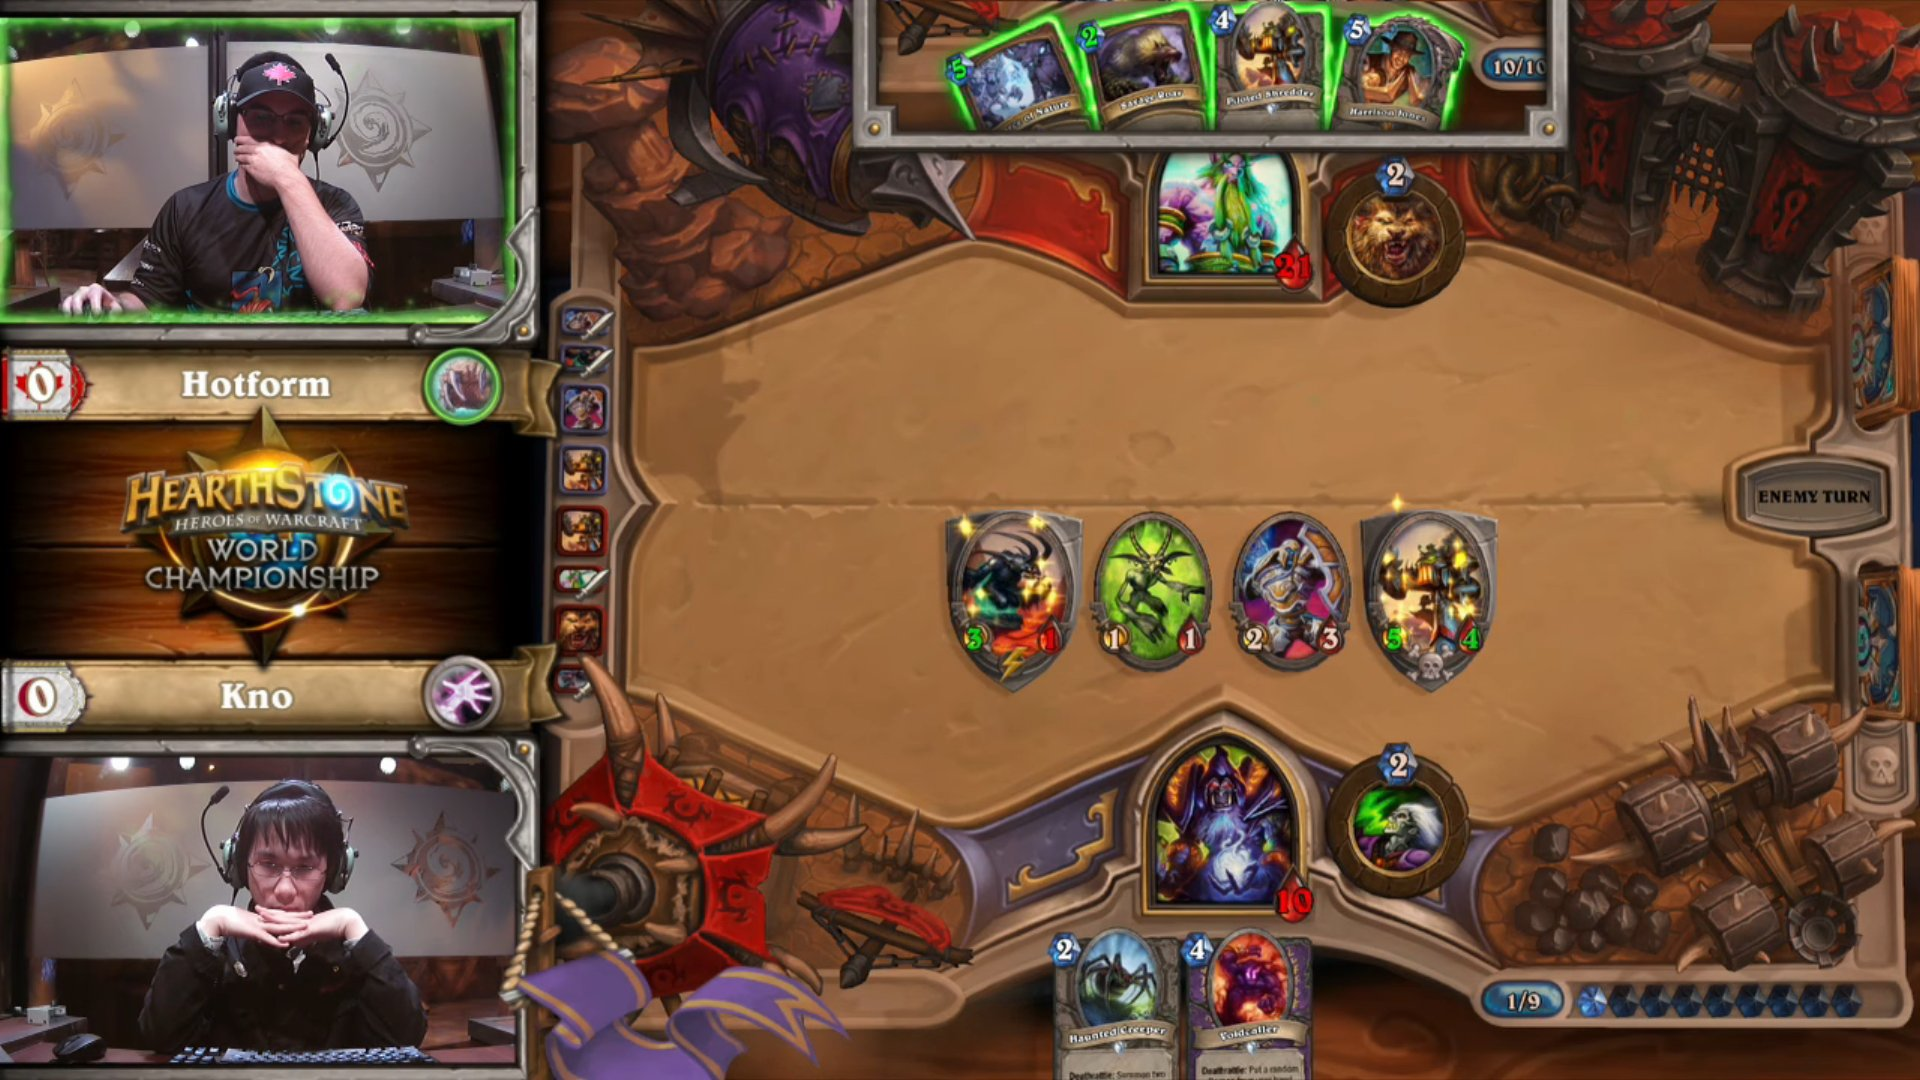card: (1046, 931, 1185, 1080), (1183, 931, 1323, 1080), (1329, 3, 1456, 138), (1205, 1, 1332, 135), (949, 20, 1097, 132), (1075, 3, 1203, 131)
